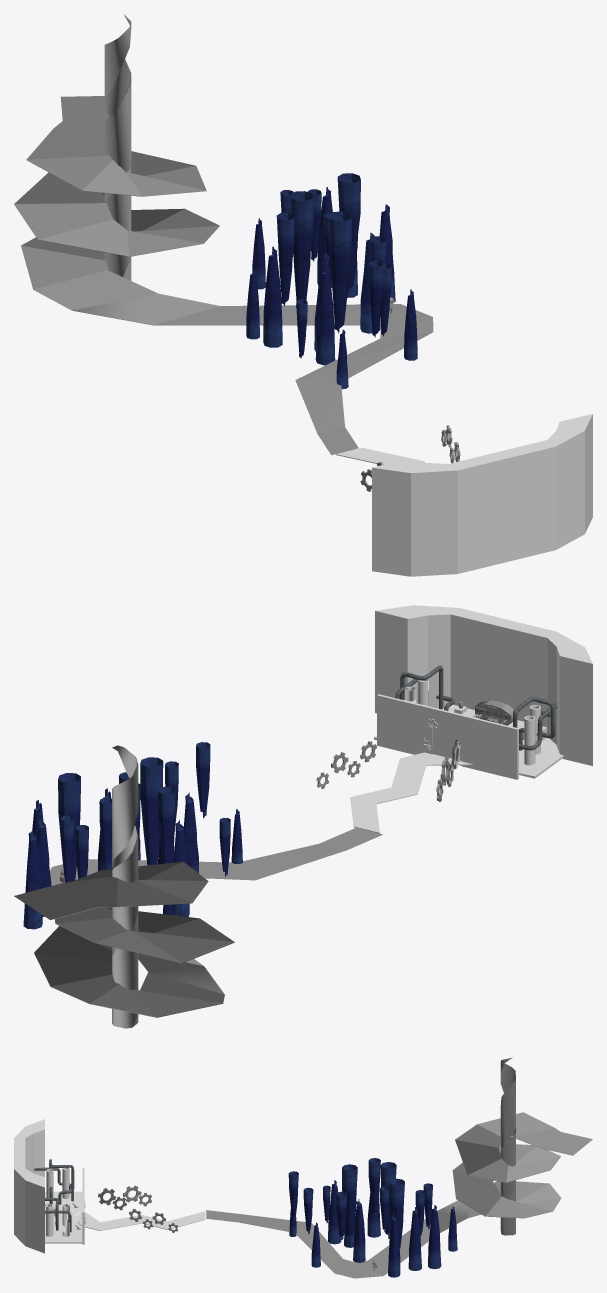
File: Cockpit_and_firefly_cave_placeholder.FBX
The picture shows the model from 3 angles, top to bottom: view 1: azimuth 30°, elevation 25°; view 2: azimuth 150°, elevation 25°; view 3: azimuth 270°, elevation 25°; orthographic projection. The views are drawn at different scales.
Parts seen in each view (by area): view 1: Rampe, Plane002, Stalagmite003, Stalagmite007, Stalagmite012, Stalagmite011, Stalagmite018, Stalagmite004, Stalagmite006, Stalagmite013, Stalagmite, Stalagmite010; view 2: Rampe, Plane002, Box007, Plane001, Stalagmite003, Cockpit_door, Stalagmite018, Stalagmite004, Stalagmite020, Stalagmite006, Stalagmite011, Stalagmite017 (+6 smaller); view 3: Rampe, Plane002, Plane001, Stalagmite003, Cockpit_door, Stalagmite018, Stalagmite021, Stalagmite020, Stalagmite013, Stalagmite019, Stalagmite004, Stalagmite011 (+12 smaller).
Boxes of the visible parts, x1,y1,x2,y2 form: Rampe: (14,14,460,491); Plane002: (372,414,592,576); Stalagmite003: (328,211,351,333); Stalagmite007: (290,191,313,307); Stalagmite012: (263,246,282,347); Stalagmite011: (315,264,335,365); Stalagmite018: (337,173,360,295); Stalagmite004: (276,212,294,306); Stalagmite006: (368,260,383,337); Stalagmite013: (360,232,380,333); Stalagmite: (246,268,259,339); Stalagmite010: (404,289,417,360); Rampe: (14,740,460,1028); Plane002: (375,605,592,765); Box007: (377,694,518,779); Plane001: (350,735,563,833); Stalagmite003: (140,757,163,865); Cockpit_door: (395,665,557,750); Stalagmite018: (58,773,80,882); Stalagmite004: (158,786,175,863); Stalagmite020: (23,829,42,929); Stalagmite006: (196,742,210,818); Stalagmite011: (183,792,198,873); Stalagmite017: (60,815,74,882); Rampe: (72,1057,592,1278); Plane002: (14,1119,44,1253); Plane001: (45,1191,205,1243); Stalagmite003: (342,1164,357,1241); Cockpit_door: (34,1159,74,1232); Stalagmite018: (389,1178,404,1248); Stalagmite021: (408,1207,421,1270); Stalagmite020: (428,1205,441,1269); Stalagmite013: (353,1199,365,1262); Stalagmite019: (388,1213,400,1277); Stalagmite004: (368,1158,380,1216); Stalagmite011: (328,1180,341,1244).
Size of the model in its own units: 1104 by 967 by 2856.
